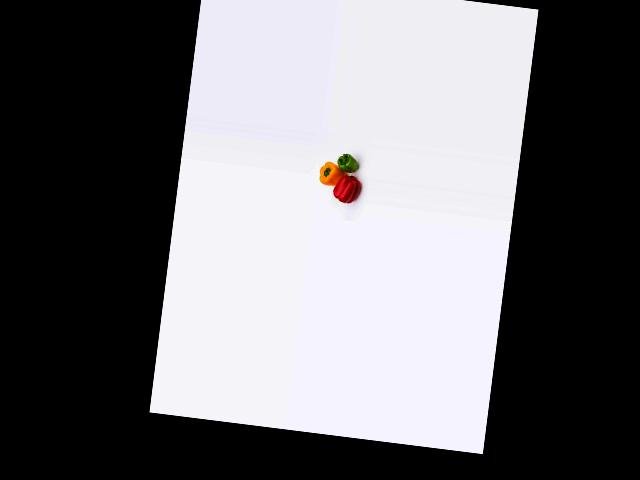bell_pepper: (334, 147, 361, 174)
